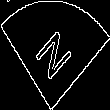N_SW: (32, 23, 78, 87)
